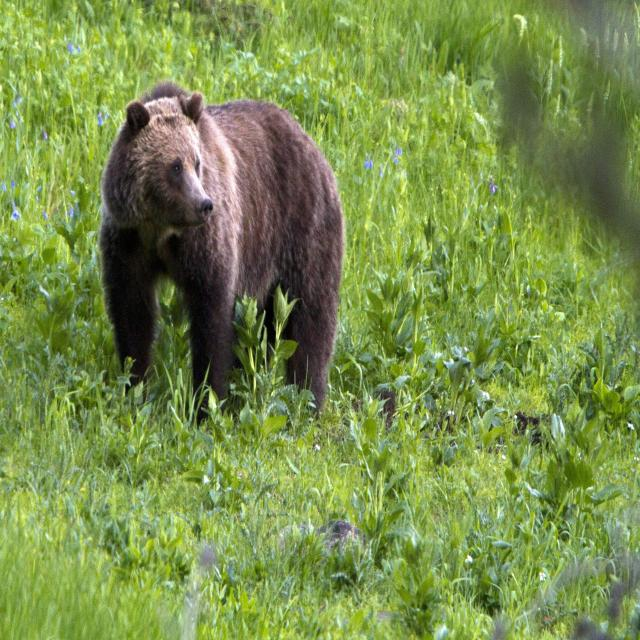Bear: (98, 81, 346, 413)
